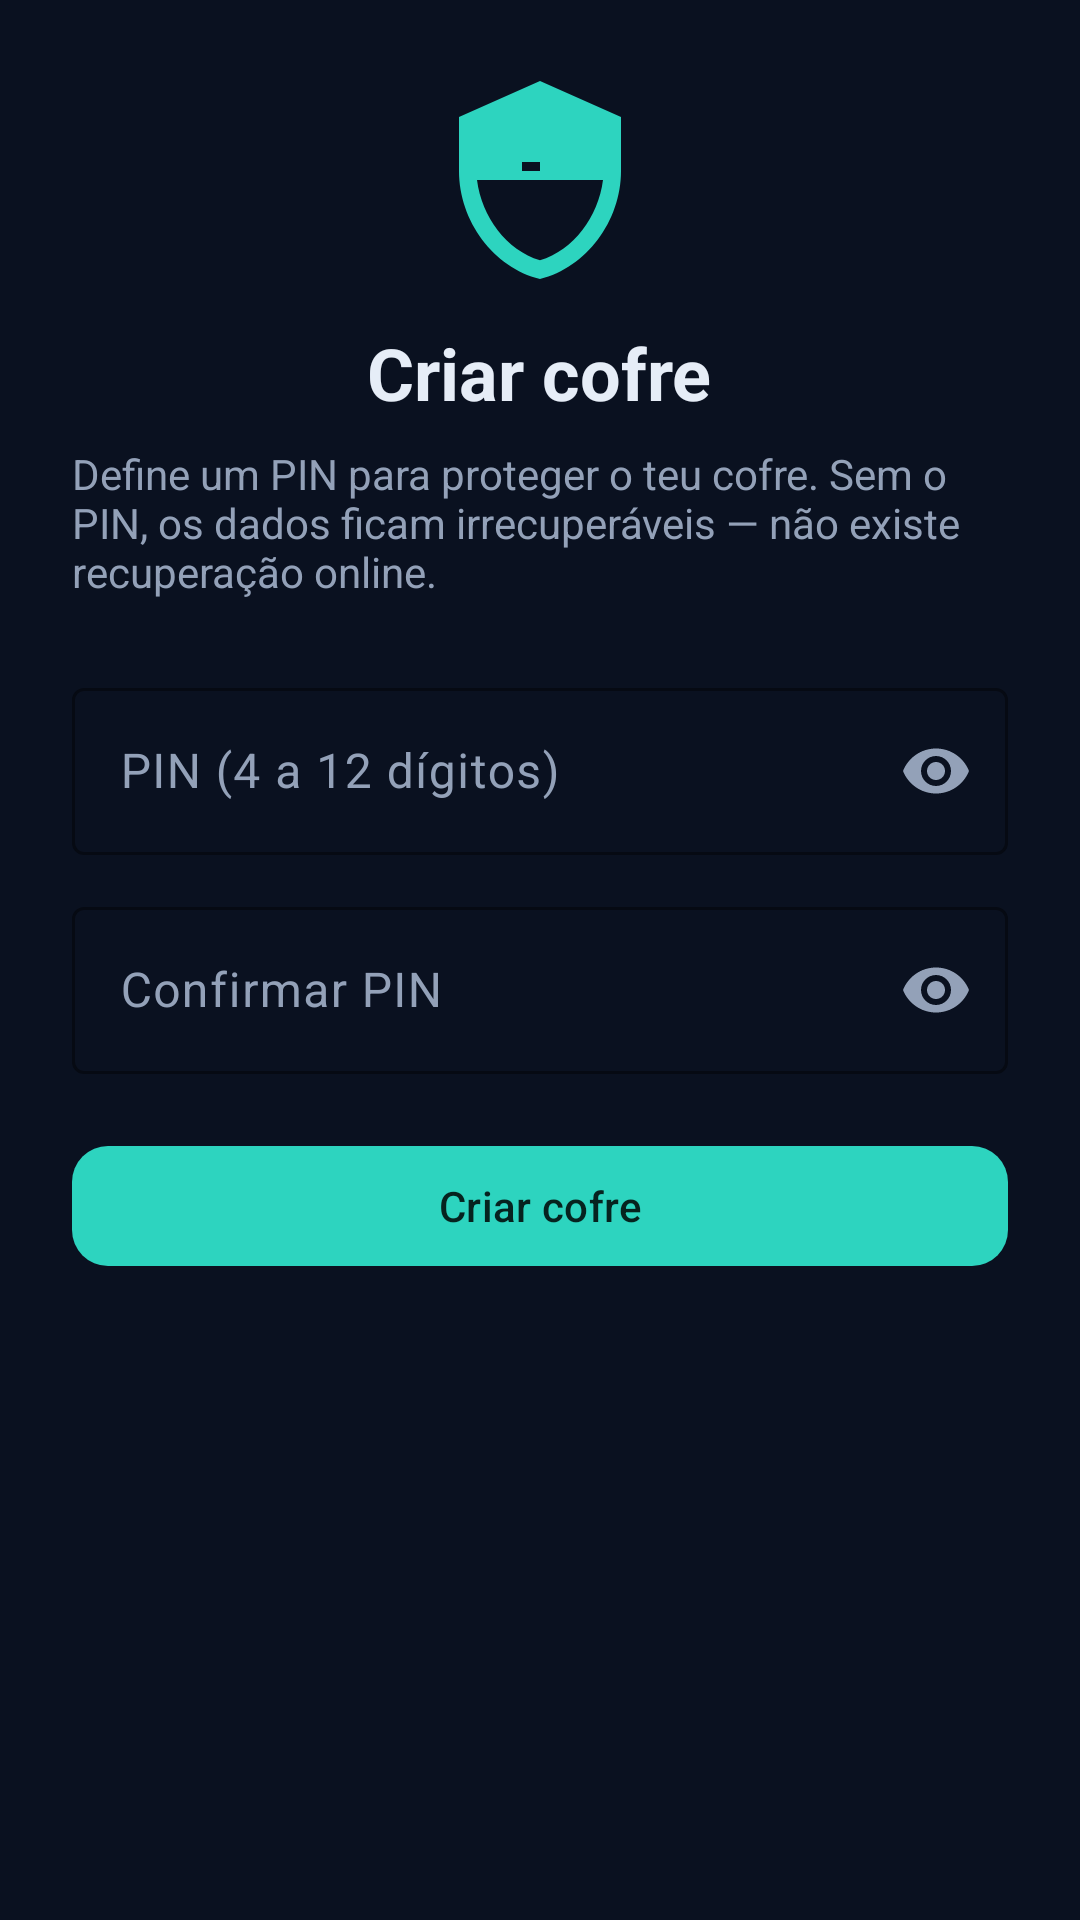

Locate icon controls on the screen. Image size 1080px x 1920px, boxes as box=[x1, y1, x2, y2].
shield lock: box=[459, 81, 621, 279]
